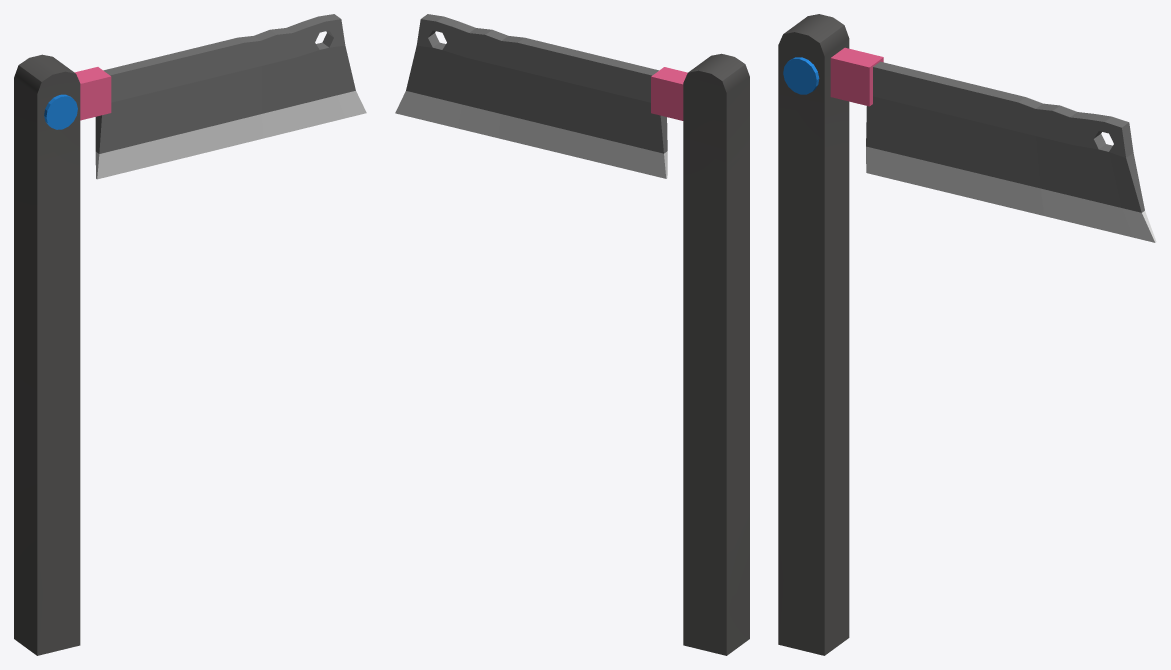
Rendered from trap_03.fbx.
3 views of the same model, side by side, from view 1: azimuth 30°, elevation 25°; view 2: azimuth 150°, elevation 25°; view 3: azimuth 330°, elevation 25° (orthographic). The views are drawn at different scales.
Parts seen in each view (by area): view 1: trap_03_base, trap_03_knife; view 2: trap_03_base, trap_03_knife; view 3: trap_03_base, trap_03_knife.
Part boxes in pixels (x1,y1,x2,y2): trap_03_base: (14,54,80,655); trap_03_knife: (44,14,366,179); trap_03_base: (683,53,749,655); trap_03_knife: (395,14,687,178); trap_03_base: (778,14,849,655); trap_03_knife: (783,47,1156,242).
Size of the model in its own units: 1622 by 2622 by 210.
